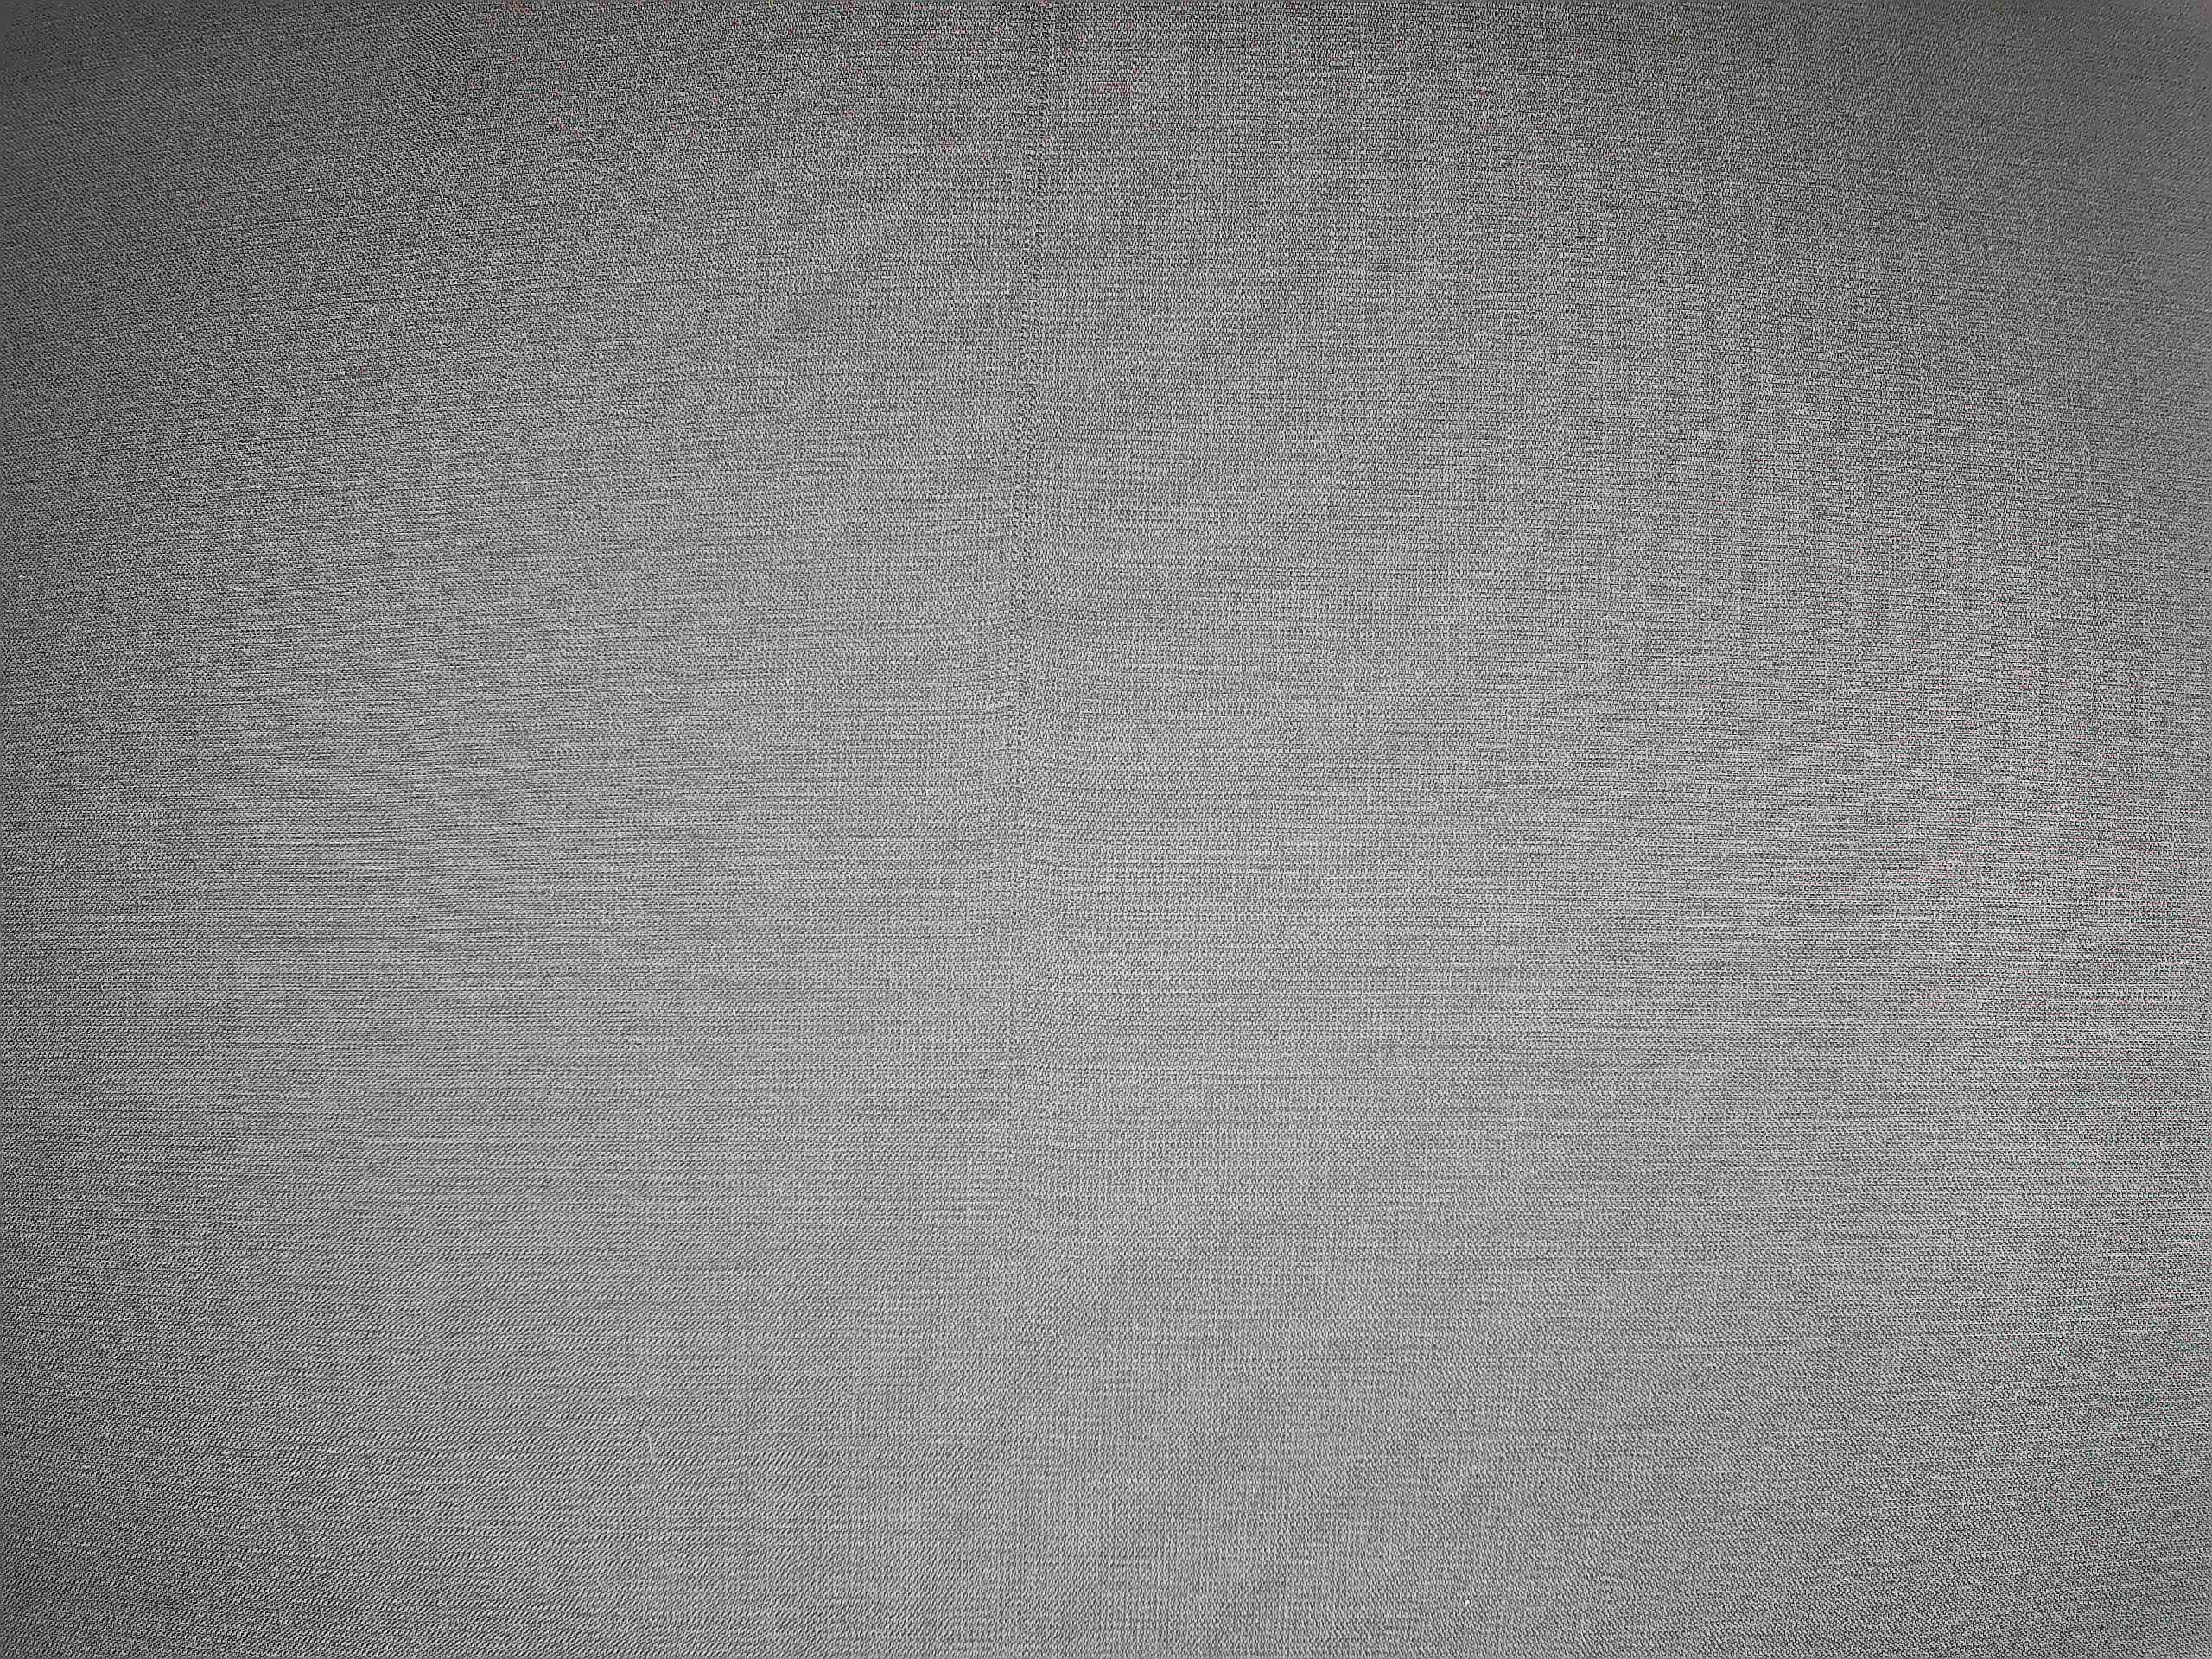hanging-warp: (1000, 5, 1066, 1199)
